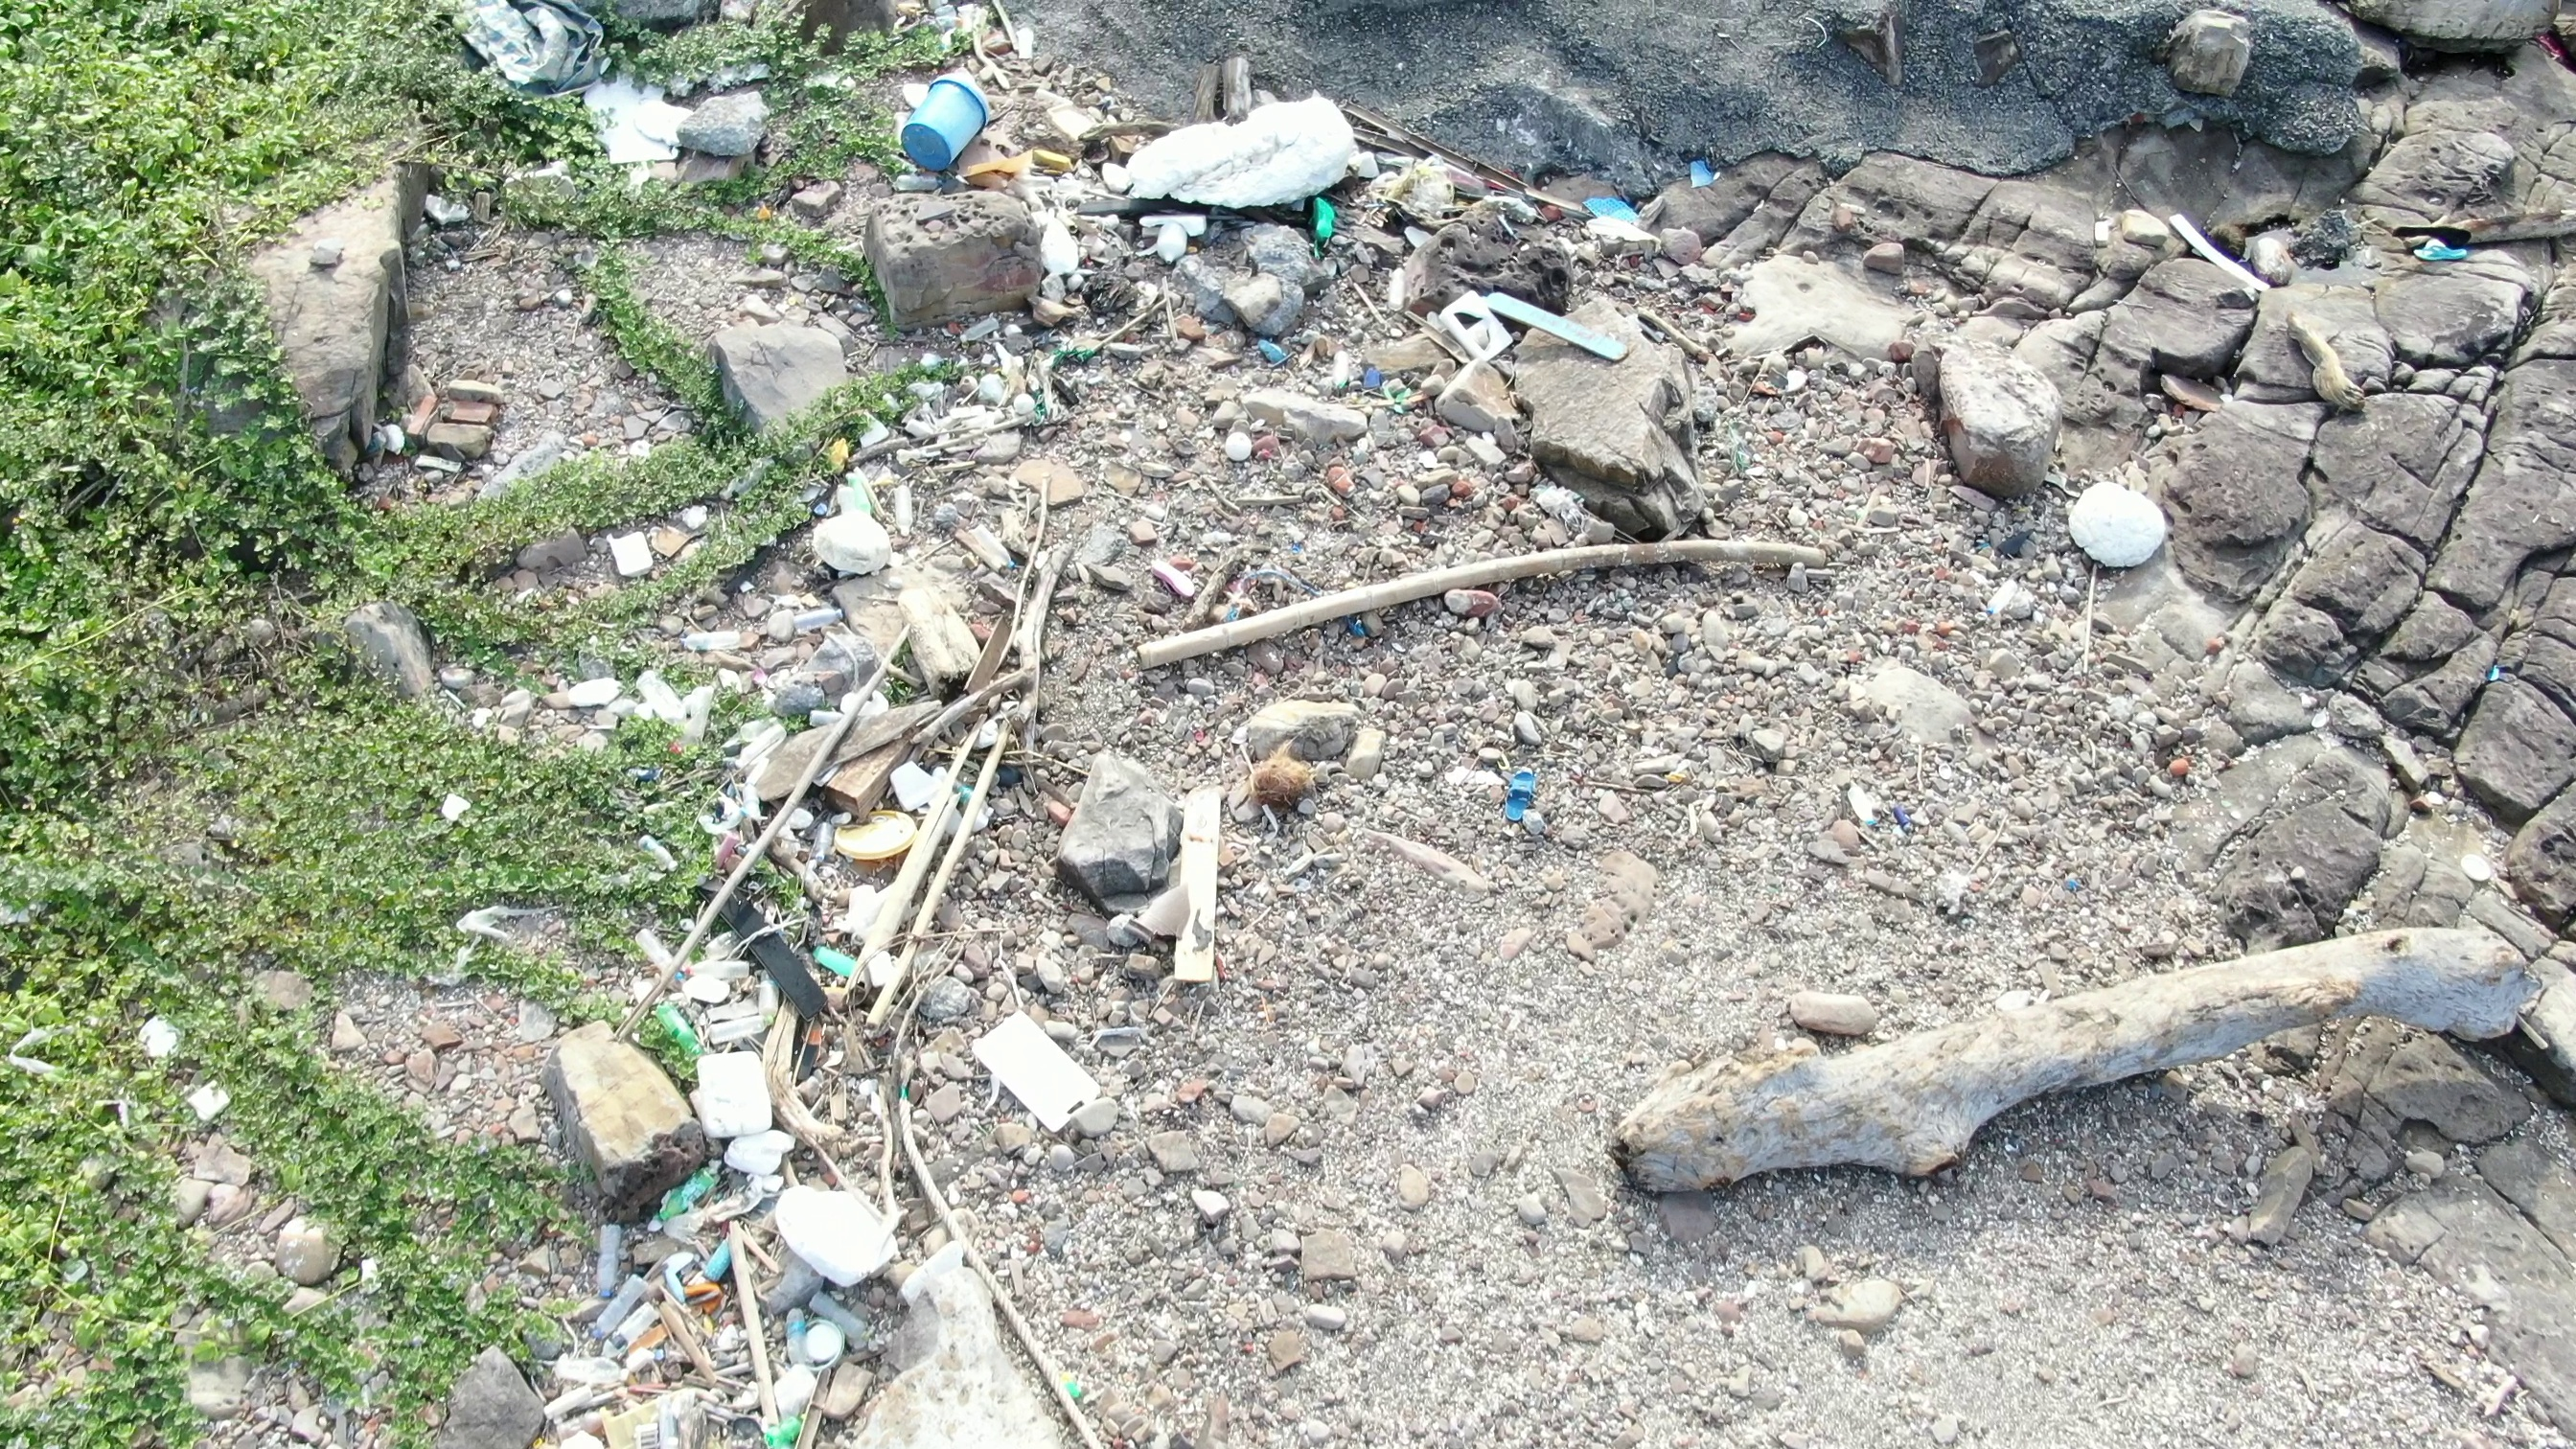garbage: (596, 1123, 867, 1449), (1428, 260, 1631, 393), (435, 7, 660, 88), (1578, 147, 1721, 235), (890, 74, 1005, 184), (1253, 318, 1396, 396), (952, 140, 1085, 205), (2401, 221, 2500, 297), (826, 809, 931, 870), (1136, 191, 1212, 264), (1491, 755, 1541, 830), (1292, 189, 1348, 251)
